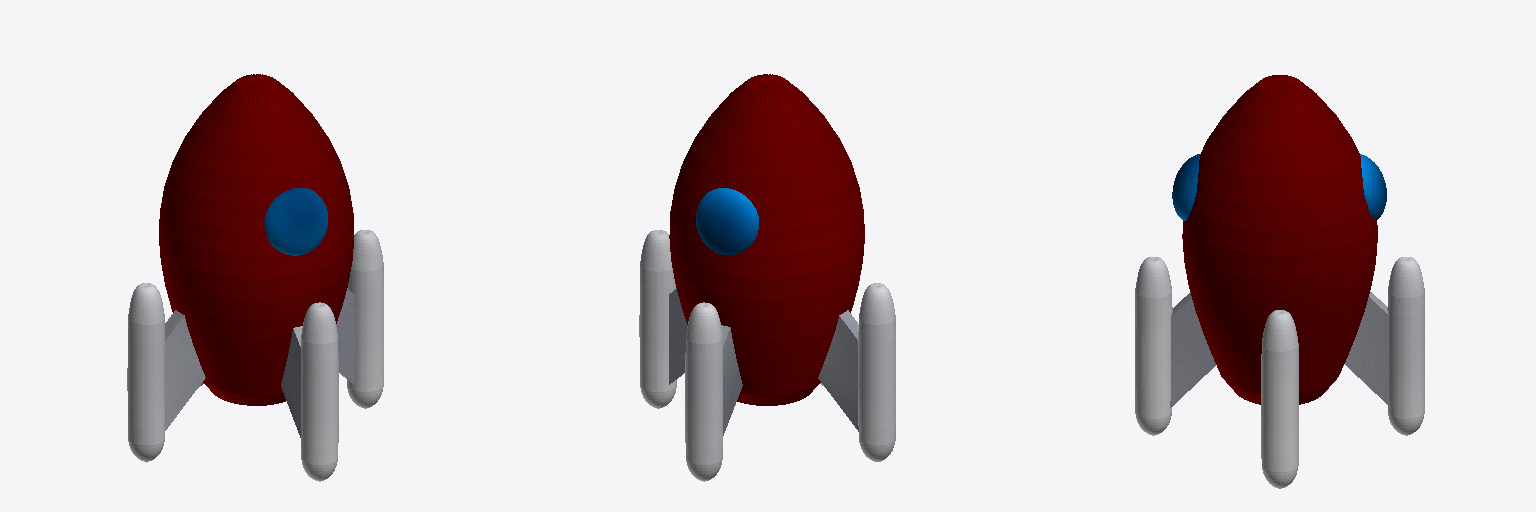
3 renders of one model, left to right at view 1: azimuth 30°, elevation 25°; view 2: azimuth 150°, elevation 25°; view 3: azimuth 270°, elevation 25°, orthographic.
Visible parts, largest first — view 1: group1 rocket:Corps, group1 rocket:Silot_4, rocket:Silot_1 group1, group1 rocket:Silot_2, group1 rocket:Hublot_1, group1 rocket:aileron, group1 rocket:aileron2, group1 rocket:aileron3; view 2: group1 rocket:Corps, group1 rocket:Silot_3, rocket:Silot_1 group1, group1 rocket:Silot_2, group1 rocket:Hublot_2, group1 rocket:aileron, group1 rocket:aileron2, group1 rocket:aileron4; view 3: group1 rocket:Corps, group1 rocket:Silot_2, group1 rocket:Silot_4, group1 rocket:Silot_3, group1 rocket:aileron3, group1 rocket:aileron4, group1 rocket:Hublot_1, group1 rocket:Hublot_2.
Part boxes in pixels (left/top/right/bottom): group1 rocket:Corps: left=159, top=74, right=353, bottom=405; group1 rocket:Silot_4: left=301, top=302, right=338, bottom=481; rocket:Silot_1 group1: left=127, top=283, right=165, bottom=462; group1 rocket:Silot_2: left=347, top=230, right=383, bottom=408; group1 rocket:Hublot_1: left=264, top=188, right=327, bottom=255; group1 rocket:aileron: left=165, top=310, right=205, bottom=430; group1 rocket:aileron2: left=336, top=288, right=354, bottom=384; group1 rocket:aileron3: left=281, top=326, right=302, bottom=437; group1 rocket:Corps: left=669, top=74, right=864, bottom=405; group1 rocket:Silot_3: left=685, top=302, right=722, bottom=481; rocket:Silot_1 group1: left=858, top=283, right=895, bottom=461; group1 rocket:Silot_2: left=639, top=230, right=676, bottom=408; group1 rocket:Hublot_2: left=696, top=188, right=758, bottom=254; group1 rocket:aileron: left=818, top=310, right=858, bottom=431; group1 rocket:aileron2: left=669, top=288, right=687, bottom=384; group1 rocket:aileron4: left=721, top=325, right=742, bottom=435; group1 rocket:Corps: left=1182, top=75, right=1377, bottom=404; group1 rocket:Silot_2: left=1261, top=310, right=1298, bottom=488; group1 rocket:Silot_4: left=1135, top=257, right=1172, bottom=435; group1 rocket:Silot_3: left=1387, top=257, right=1424, bottom=435; group1 rocket:aileron3: left=1170, top=292, right=1215, bottom=407; group1 rocket:aileron4: left=1345, top=291, right=1389, bottom=406; group1 rocket:Hublot_1: left=1172, top=154, right=1199, bottom=220; group1 rocket:Hublot_2: left=1360, top=154, right=1386, bottom=219.
Size of the model in its own units: 53.37 by 72.87 by 53.36.
Materials: 4 (4 with a texture image).